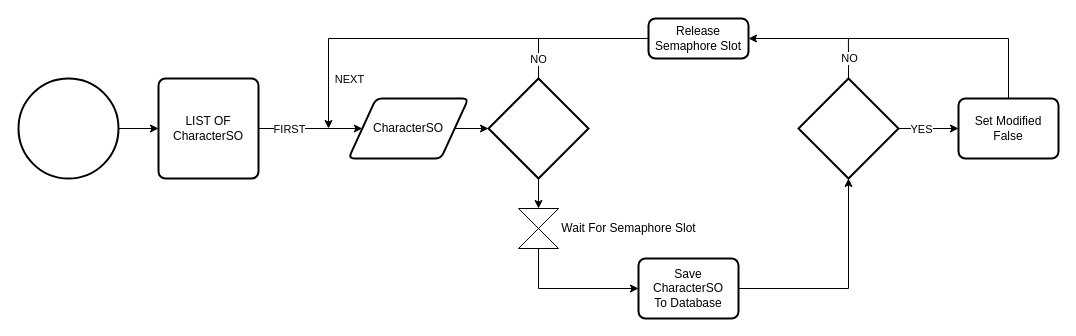
Image size: 1076x336. Some labels were removed from this diagram. The shapes that lost their labels are listed below. From the top down, each one's centre as x and y in pixels, then its label:
At (68,128): "START".
At (538,128): "Modified?".
At (848,128): "Success?".
